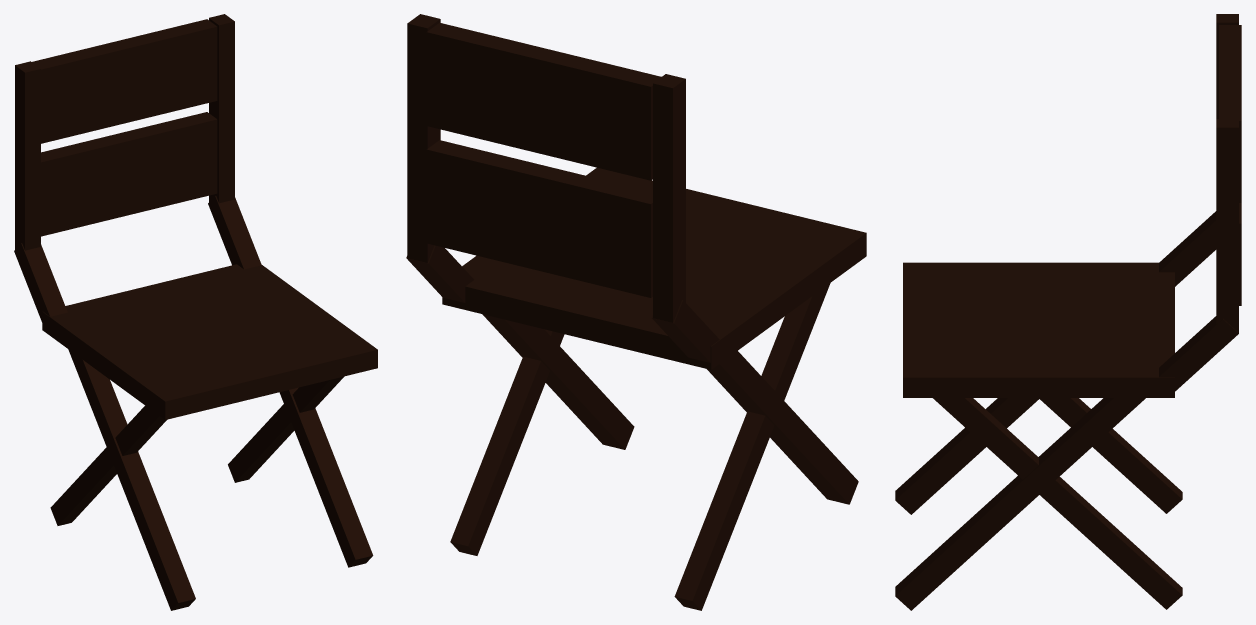
The model's file is Chair.fbx.
The picture shows the model from 3 angles, left to right: view 1: azimuth 30°, elevation 25°; view 2: azimuth 150°, elevation 25°; view 3: azimuth 270°, elevation 25°; orthographic projection. The views are drawn at different scales.
Visible parts, largest first — view 1: Box005, Box010, Box011, Box001, Box004, Box009, Box008, Box002, Box003, Box006, Box007; view 2: Box005, Box010, Box011, Box002, Box009, Box003, Box001, Box004, Box008, Box006, Box007; view 3: Box005, Box004, Box003, Box008, Box001, Box002, Box010, Box007, Box006, Box009.
Boxes of the visible parts, x1,y1,x2,y2 form: Box005: (42,264,377,419); Box010: (32,19,217,143); Box011: (41,112,217,236); Box001: (68,349,195,610); Box004: (279,387,373,567); Box009: (15,61,40,250); Box008: (209,14,234,203); Box002: (50,405,166,525); Box003: (228,376,344,482); Box006: (14,243,67,322); Box007: (208,196,261,269); Box005: (442,167,866,369); Box010: (426,22,661,180); Box011: (426,140,652,297); Box002: (674,283,830,610); Box009: (653,74,685,322); Box003: (450,329,564,555); Box001: (707,351,858,504); Box004: (482,314,634,449); Box008: (407,14,440,262); Box006: (652,300,719,362); Box007: (406,245,473,302); Box005: (903,262,1174,397); Box004: (895,398,1145,610); Box003: (933,398,1182,609); Box008: (1216,119,1238,332); Box001: (895,398,1039,514); Box002: (1040,398,1182,513); Box010: (1219,25,1241,202); Box007: (1159,316,1238,391); Box006: (1159,211,1216,286); Box009: (1216,14,1238,118).
Size of the model in its own units: 60 by 118 by 76.37.
